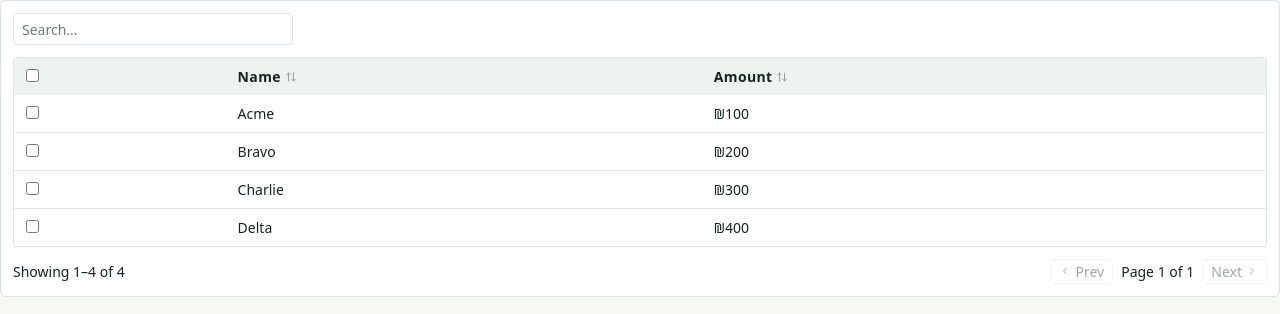
DataTable — global filter › filters the rendered rows by case-insensitive substring
Type "bra" into the search field with test id "data-table-search".
click(153, 29); type("bra")  # box [13,13,293,45]
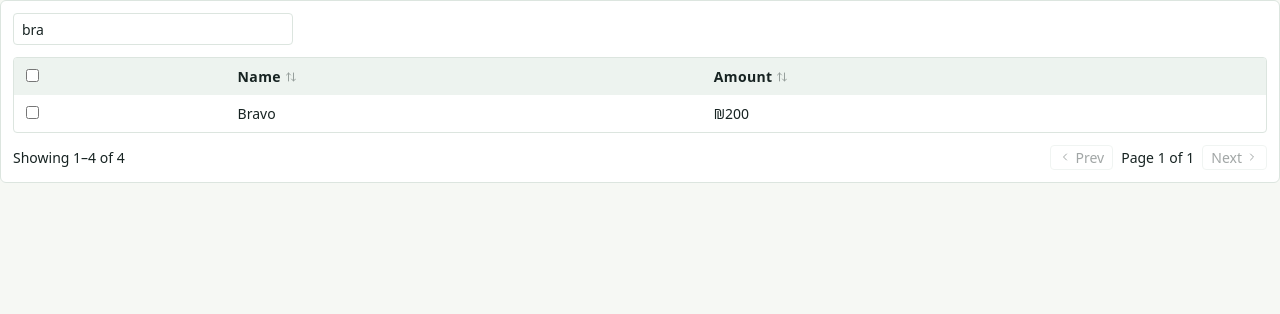
Expected: the row with test id "data-table-row-b" is shown, [14,95,1266,132]
Expected: the row with test id "data-table-row-a" is gone
